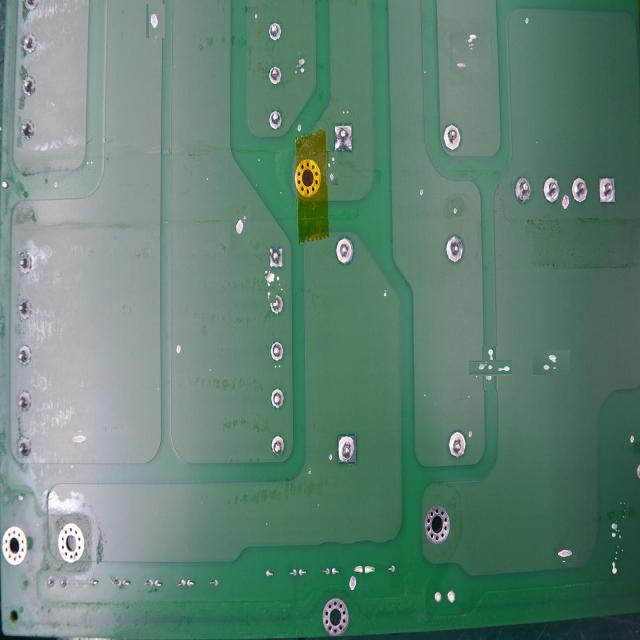spillover: (451, 32, 490, 72), (536, 347, 567, 378), (229, 205, 250, 249), (475, 354, 505, 384), (146, 4, 165, 38), (326, 151, 338, 185), (293, 48, 308, 75), (264, 270, 276, 303), (71, 428, 90, 447), (555, 545, 574, 564)
